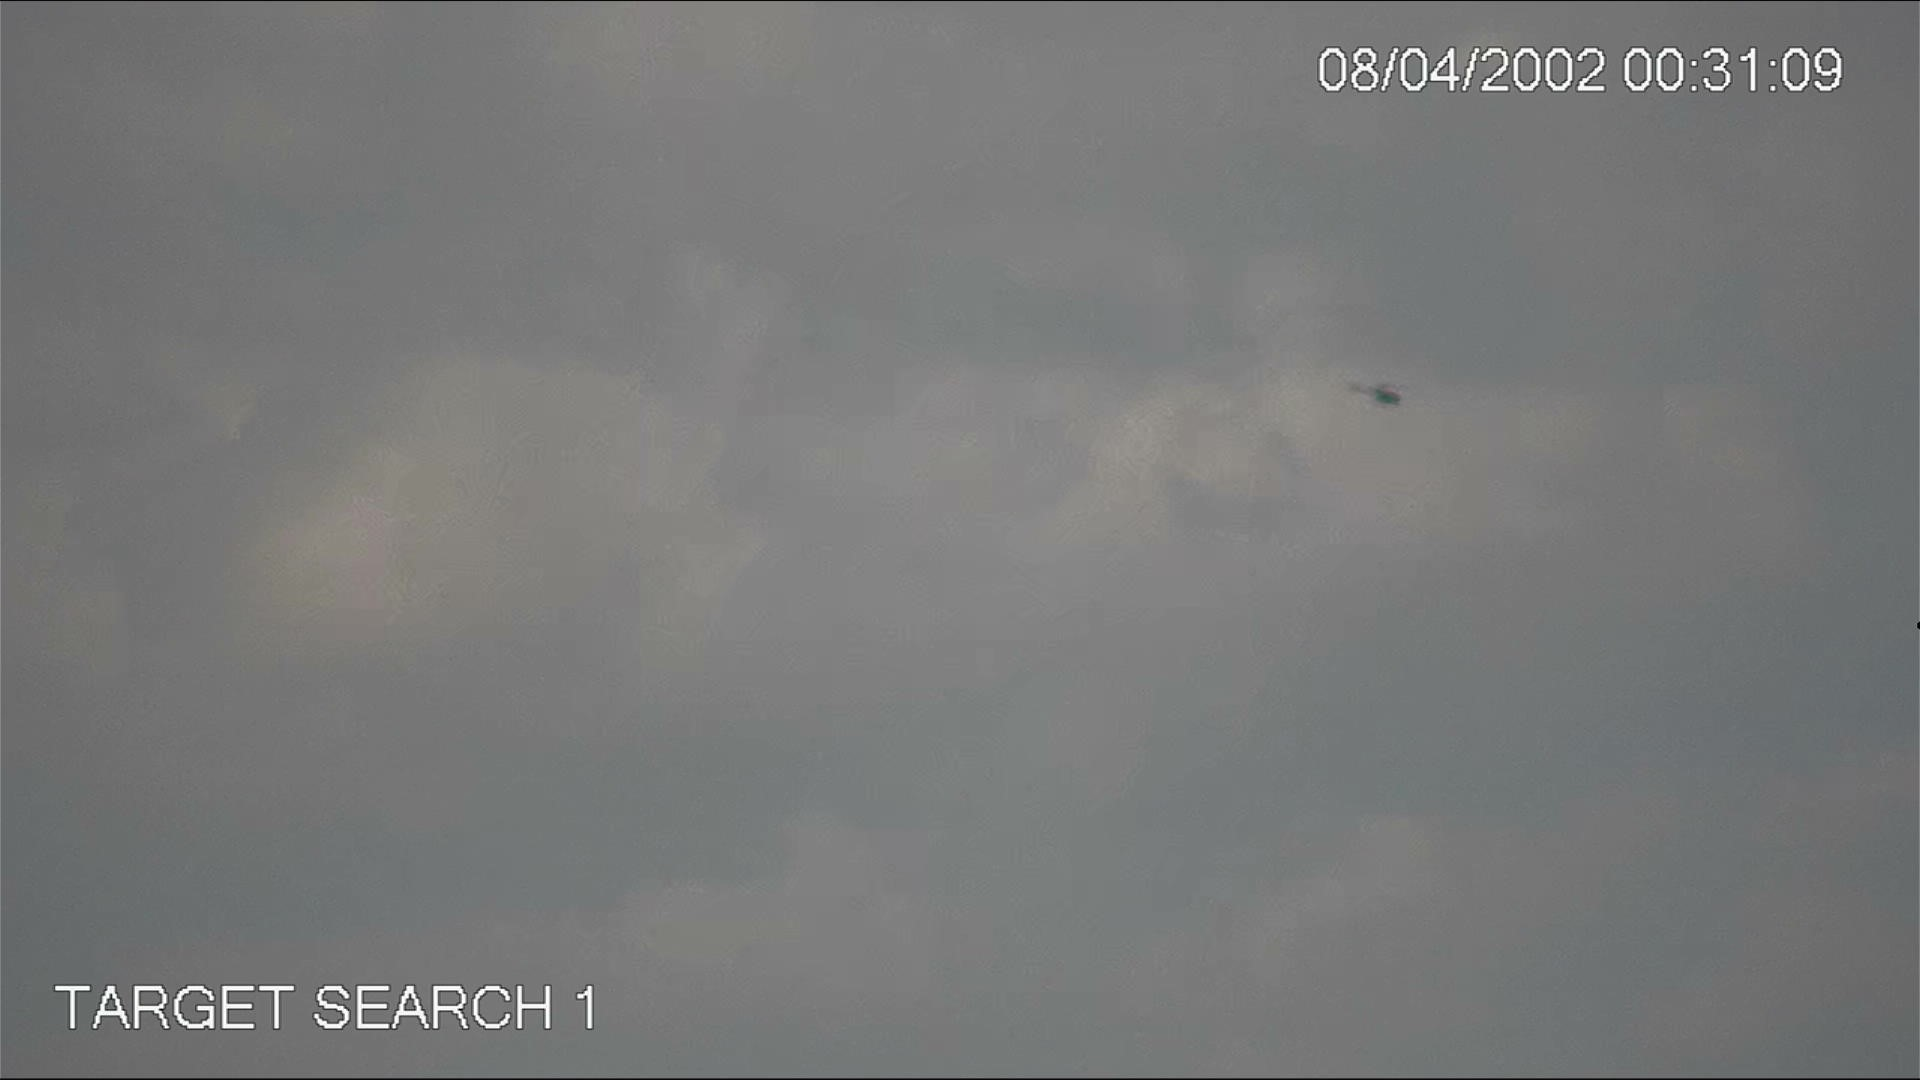SU_30: (1338, 375, 1410, 409)
